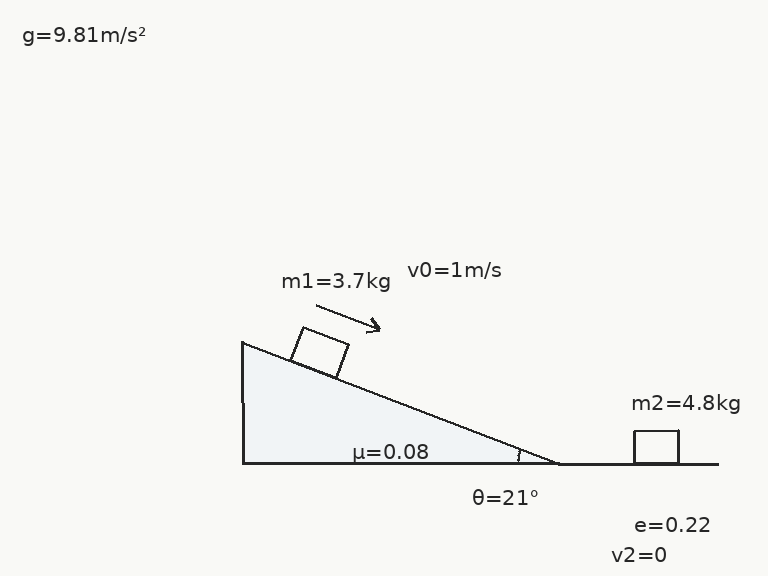block: (288, 325, 350, 379), (632, 429, 680, 465)
ramp: (240, 340, 560, 465)
